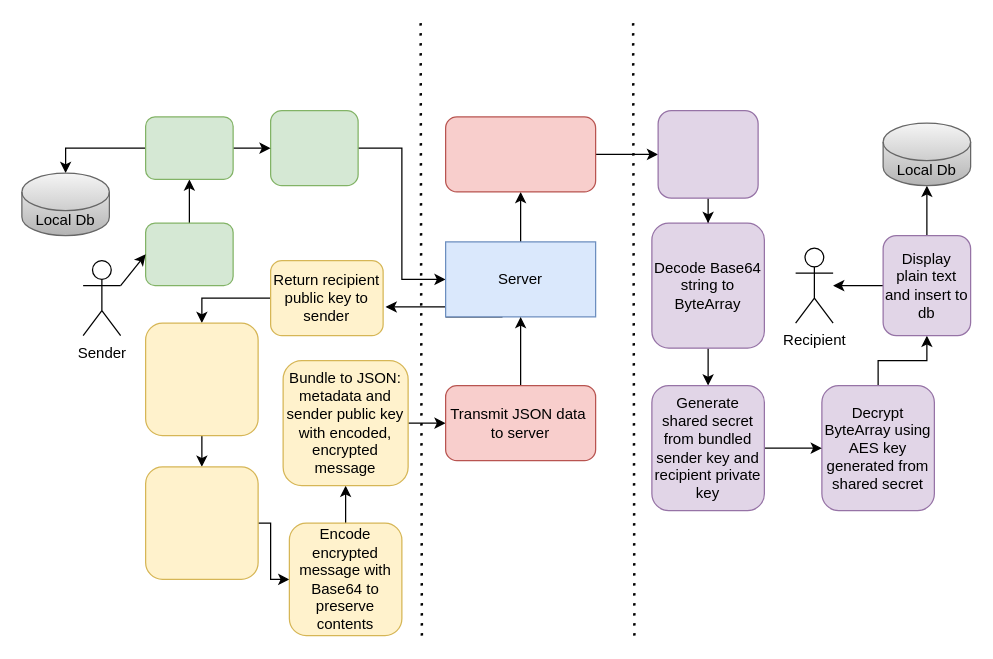
This 993x659 diagram has some shape labels left out. Each missing label, with the centre of its shape:
compose plain text message: point (188, 254)
Generate ECC shared secret using sender private key and recipient public key: point (201, 379)
push "send message" button: point (188, 147)
Read metadata from JSON and route to correct recipient: point (520, 154)
Receive encrypted, encoded message: point (707, 153)
Request recipient public key from server: point (313, 147)
Use shared secret to generate AES-encrypted message: point (201, 522)
